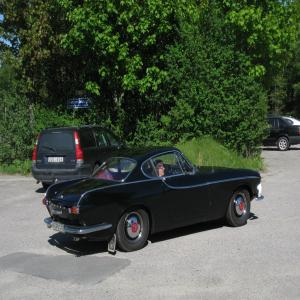Vehicle-registration-plate: (53, 222, 67, 235), (48, 158, 64, 164)
